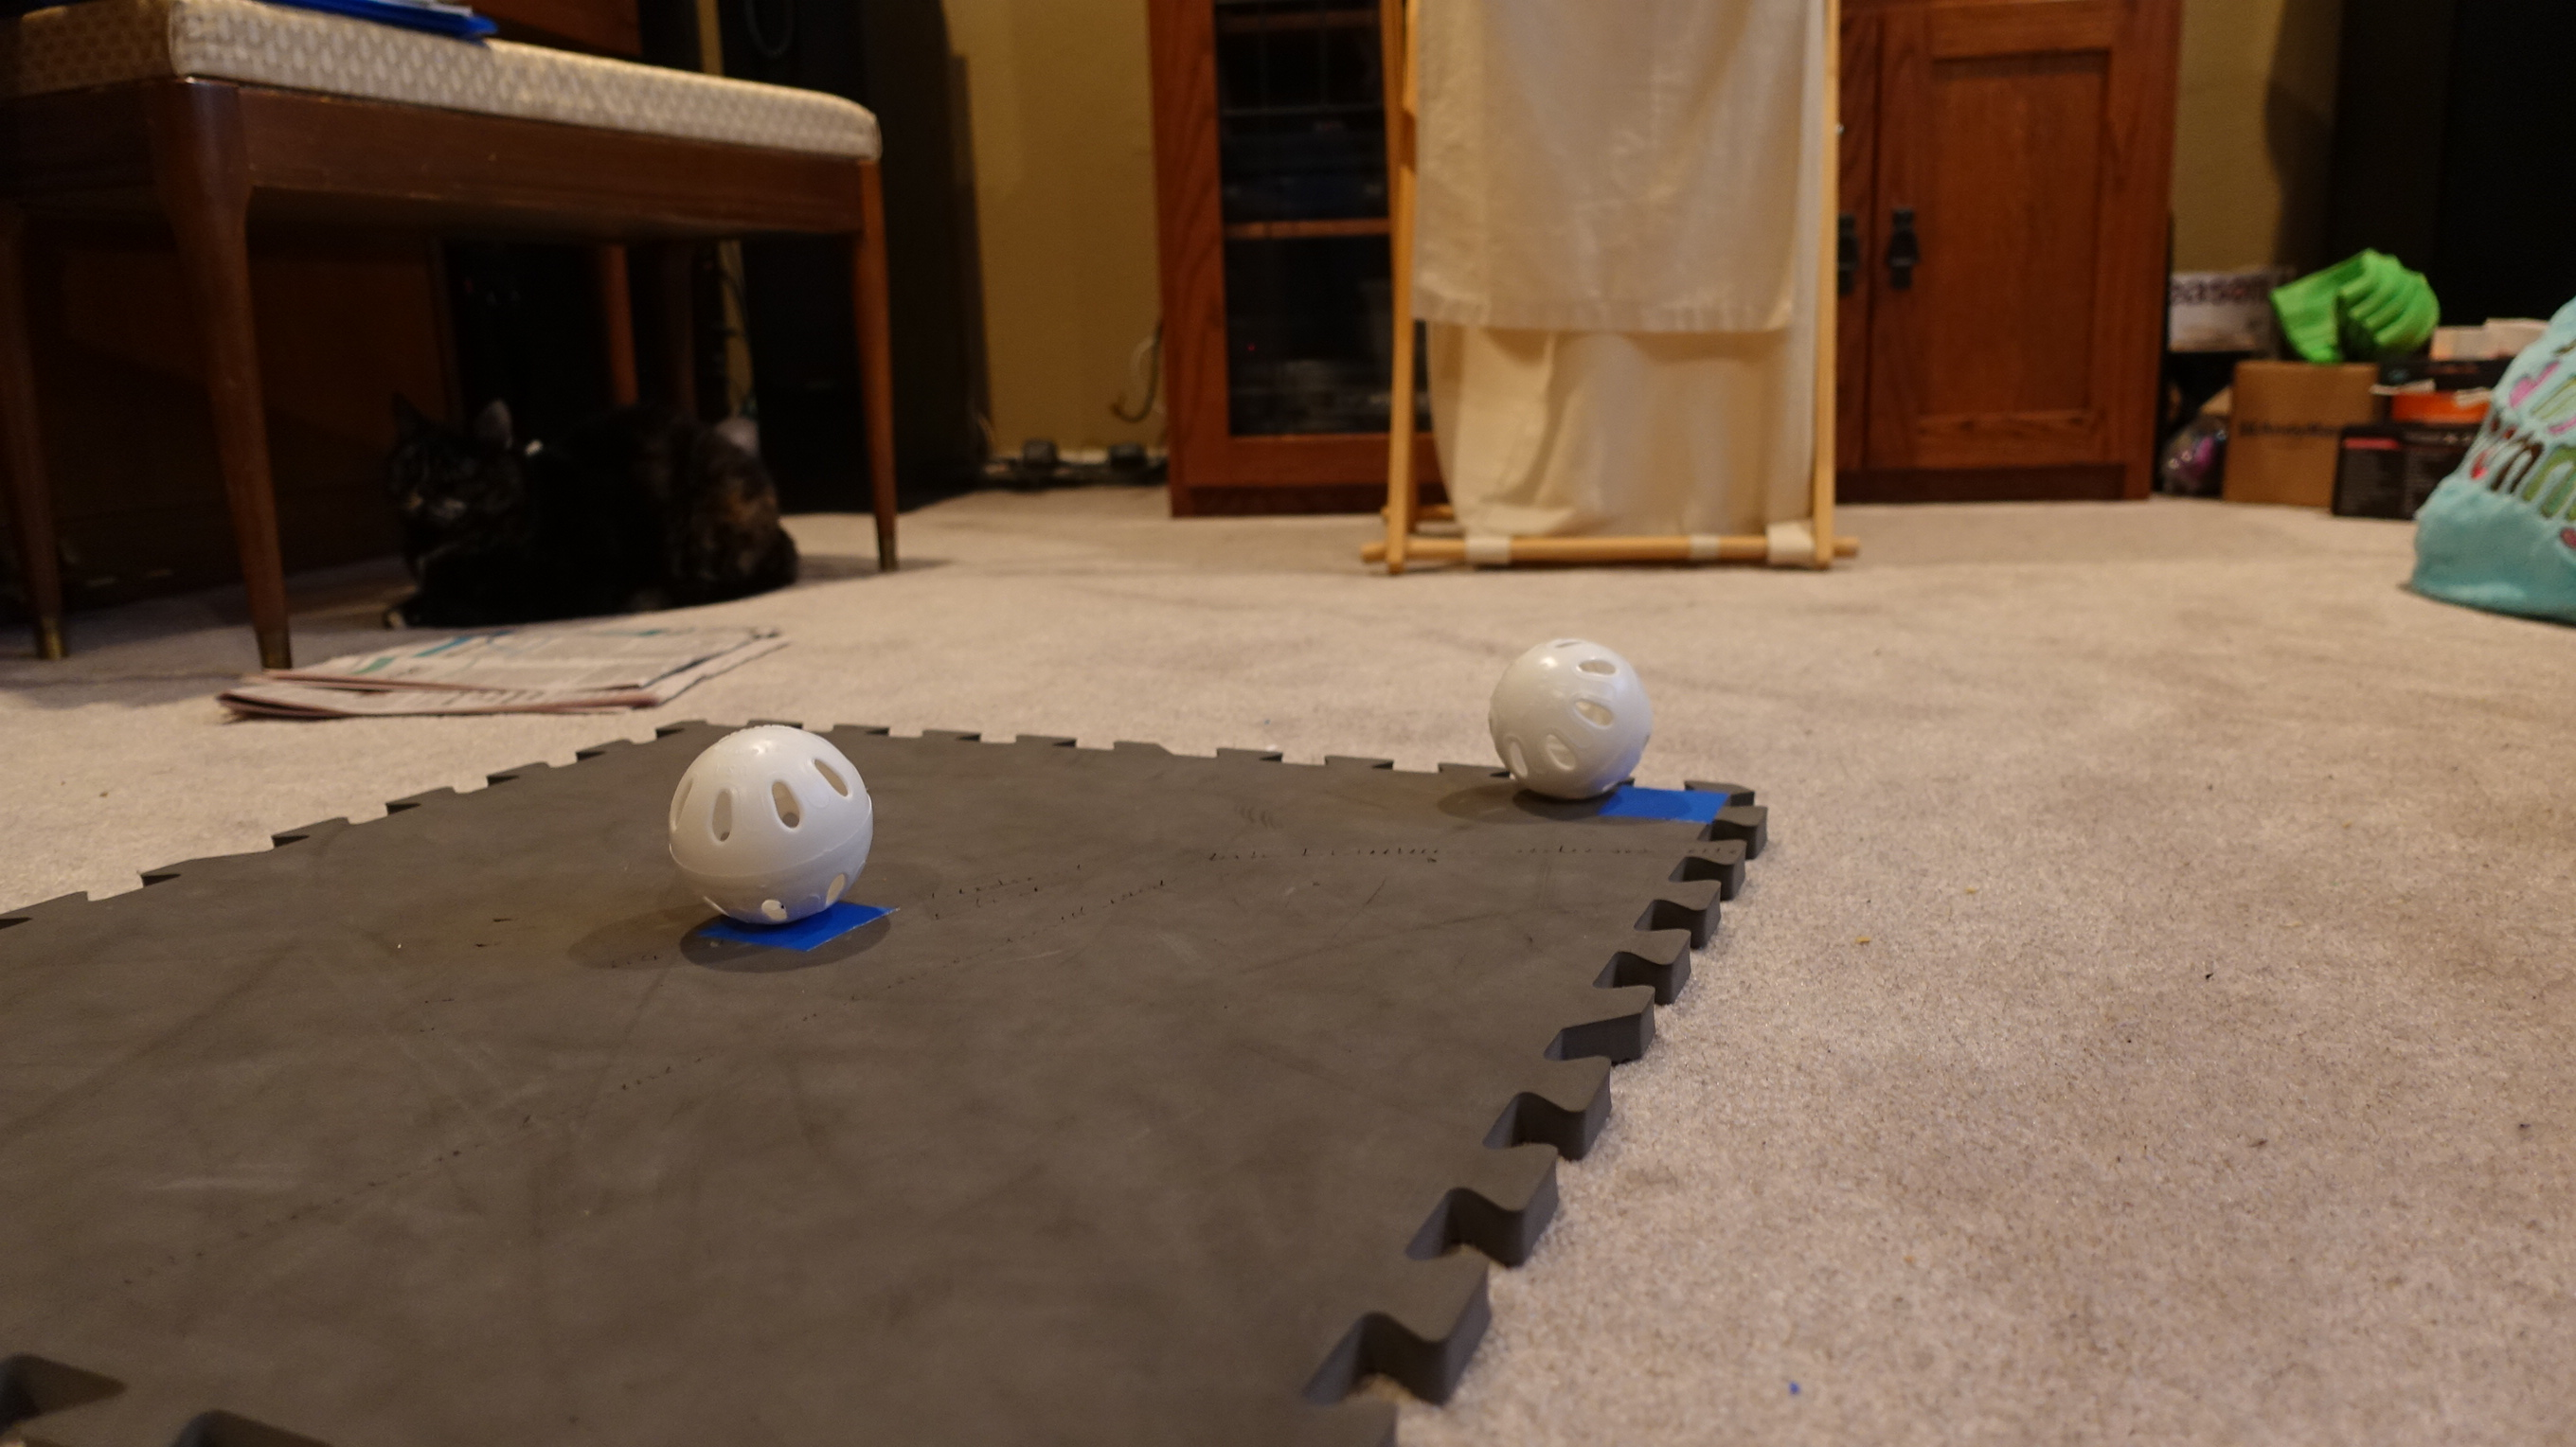silver: (662, 729, 885, 922), (1484, 632, 1658, 807)
